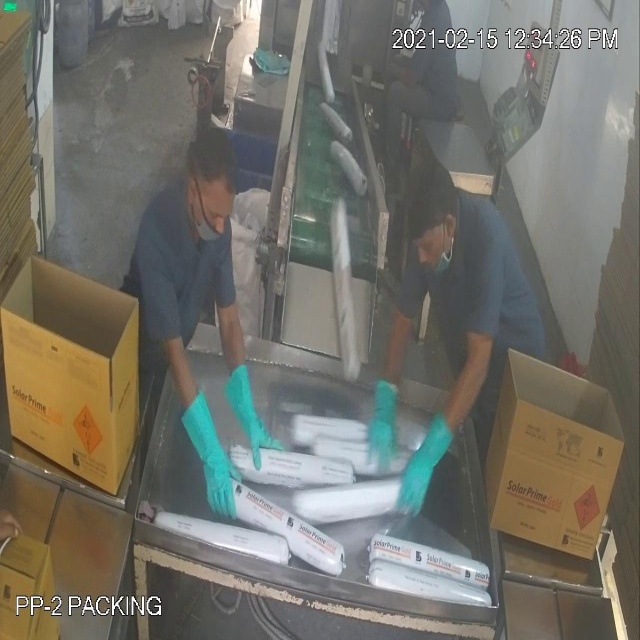Guantes: (173, 387, 241, 524), (214, 348, 280, 476), (389, 396, 452, 526), (365, 359, 403, 481)
